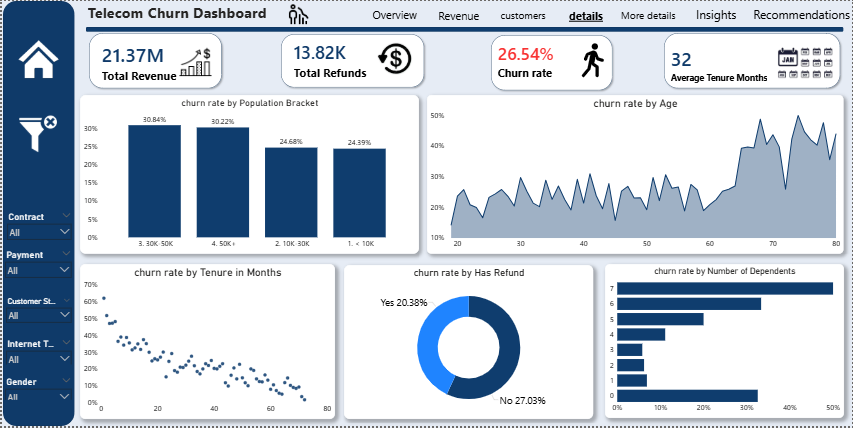

Layout of this report page (visuals, bound fields, positions):
{"tool":"powerbi","page":{"name":"details ","canvas":[2500,1250],"ordinal":4},"visuals":[{"type":"shape","box":[2.6,0,210.5,1250],"z":0},{"type":"shape","box":[247.2,77.8,2227.8,13.9],"z":1000},{"type":"donutChart","fields":{"Category":["fact_telecom_customer_churn.Has Refund"],"Y":["_measures.churn_rate"]},"box":[1005.6,775,733.3,452.8],"z":2000},{"type":"shape","box":[1430.6,91.7,375,180.6],"z":3000},{"type":"shape","box":[811.1,88.9,438.9,175],"z":4000},{"type":"clusteredColumnChart","fields":{"Category":["dim_population.Population Bracket"],"Y":["_measures.churn_rate"]},"box":[230.6,277.8,997.2,466.7],"z":5000},{"type":"shape","box":[247.2,86.1,408.3,180.6],"z":6000},{"type":"shape","box":[1938.9,86.1,536.1,180.6],"z":7000},{"type":"clusteredBarChart","fields":{"Category":["dim_customer.Number of Dependents"],"Y":["_measures.churn_rate"]},"box":[1772.2,772.2,702.8,452.8],"z":8000},{"type":"scatterChart","fields":{"Y":["_measures.churn_rate"],"X":["fact_telecom_customer_churn.Tenure in Months"]},"box":[230.6,772.2,750,455.6],"z":9000},{"type":"areaChart","fields":{"Y":["_measures.churn_rate"],"Category":["dim_customer.Age"]},"box":[1250,277.8,1225,466.7],"z":10000},{"type":"cardVisual","fields":{"Data":["_measures.Total Refunds"]},"box":[829.4,97.1,352.9,150],"z":11000},{"type":"textbox","box":[245.9,0,627,78.4],"z":12000},{"type":"image","box":[800,0,145.9,78.4],"z":13000},{"type":"image","box":[1097.1,117.6,114.7,102.9],"z":14000},{"type":"slicer","fields":{"Values":["dim_customer.Customer Status"]},"box":[2.7,864.9,210.8,86.5],"z":15000},{"type":"slicer","fields":{"Values":["dim_internet_service.Internet Type"]},"box":[2.7,986.5,210.8,83.8],"z":16000},{"type":"slicer","fields":{"Values":["dim_contract.Payment Method"]},"box":[0,724.3,213.5,97.3],"z":17000},{"type":"slicer","fields":{"Values":["dim_contract.Contract"]},"box":[5.4,610.8,208.1,97.3],"z":18000},{"type":"slicer","fields":{"Values":["dim_customer.Gender"]},"box":[0,1097.3,213.5,75.7],"z":19000},{"type":"actionButton","title":"Churn Overview","box":[1063.2,0,186.8,78.9],"z":20000},{"type":"actionButton","title":"Churn Overview","box":[1250,0,186.8,84.2],"z":21000},{"type":"actionButton","title":"Churn Overview","box":[1439.5,0,189.5,78.9],"z":22000},{"type":"actionButton","title":"Churn Overview","box":[1642.1,0,152.6,84.2],"z":23000},{"type":"actionButton","title":"Churn Overview","box":[1794.7,0,213.2,78.9],"z":24000},{"type":"actionButton","title":"Churn Overview","box":[2018.4,0,165.8,78.9],"z":25000},{"type":"actionButton","title":"Churn Overview","box":[2202.6,0,297.4,78.9],"z":26000},{"type":"cardVisual","fields":{"Data":["_measures.churn_rate"]},"box":[1430.6,88.9,288.9,175],"z":27000},{"type":"image","box":[1683.3,111.1,111.1,125],"z":28000},{"type":"cardVisual","fields":{"Data":["_measures.Total Revenue"]},"box":[263.9,86.1,294.4,188.9],"z":29000},{"type":"image","box":[497.2,125,144.4,108.3],"z":30000},{"type":"cardVisual","fields":{"Data":["_measures.Average Tenure"]},"box":[1938.9,105.6,366.7,161.1],"z":31000},{"type":"image","box":[2266.7,108.3,188.9,144.4],"z":32000},{"type":"image","box":[40.5,110.8,132.4,118.9],"z":33000},{"type":"image","box":[21.6,335.1,170.3,110.8],"z":34000}]}

Visuals, with their boxes on the page's 2500x1250 design canvas (x1, y1, x2, y2). These are canvas units, not pixel positions in the 853x428 screenshot, which may show the page scaled, cropped or inside an application window:
shape: 3,0,213,1250
shape: 247,78,2475,92
donutChart - fact_telecom_customer_churn.Has Refund x _measures.churn_rate: 1006,775,1739,1228
shape: 1431,92,1806,272
shape: 811,89,1250,264
clusteredColumnChart - dim_population.Population Bracket x _measures.churn_rate: 231,278,1228,744
shape: 247,86,656,267
shape: 1939,86,2475,267
clusteredBarChart - dim_customer.Number of Dependents x _measures.churn_rate: 1772,772,2475,1225
scatterChart - _measures.churn_rate x fact_telecom_customer_churn.Tenure in Months: 231,772,981,1228
areaChart - _measures.churn_rate x dim_customer.Age: 1250,278,2475,744
cardVisual - _measures.Total Refunds: 829,97,1182,247
textbox: 246,0,873,78
image: 800,0,946,78
image: 1097,118,1212,220
slicer - dim_customer.Customer Status: 3,865,214,951
slicer - dim_internet_service.Internet Type: 3,986,214,1070
slicer - dim_contract.Payment Method: 0,724,214,822
slicer - dim_contract.Contract: 5,611,214,708
slicer - dim_customer.Gender: 0,1097,214,1173
"Churn Overview" actionButton: 1063,0,1250,79
"Churn Overview" actionButton: 1250,0,1437,84
"Churn Overview" actionButton: 1440,0,1629,79
"Churn Overview" actionButton: 1642,0,1795,84
"Churn Overview" actionButton: 1795,0,2008,79
"Churn Overview" actionButton: 2018,0,2184,79
"Churn Overview" actionButton: 2203,0,2500,79
cardVisual - _measures.churn_rate: 1431,89,1720,264
image: 1683,111,1794,236
cardVisual - _measures.Total Revenue: 264,86,558,275
image: 497,125,642,233
cardVisual - _measures.Average Tenure: 1939,106,2306,267
image: 2267,108,2456,253
image: 40,111,173,230
image: 22,335,192,446
